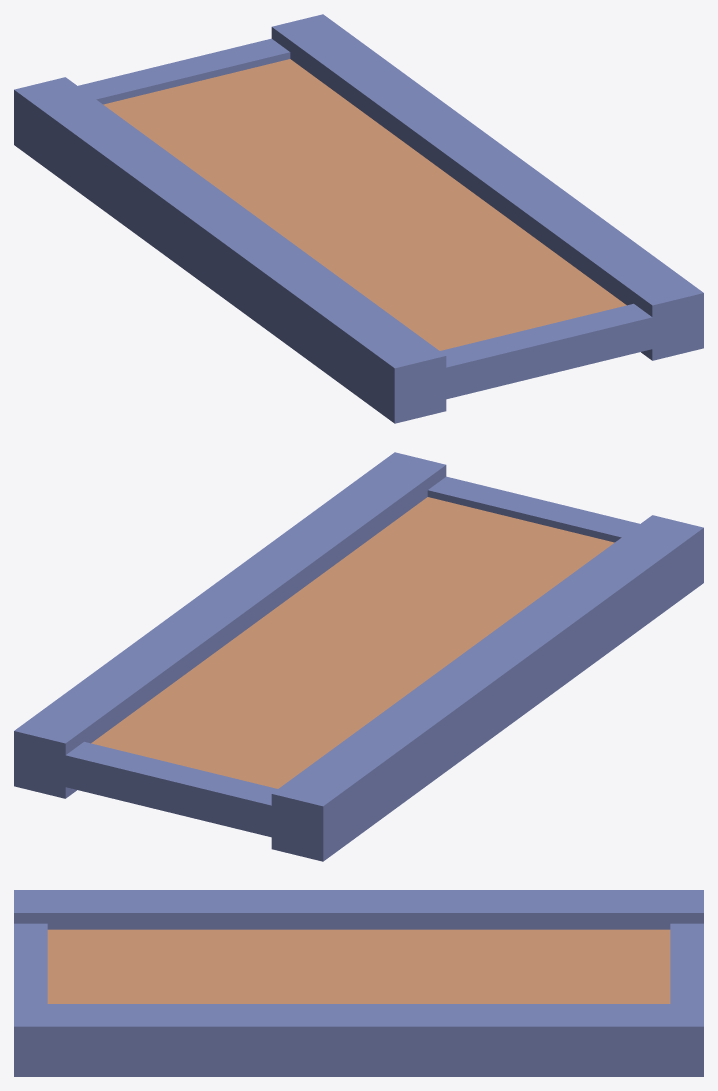
Rendered from bridge_2d_2.fbx.
3 views of the same model, one above another, from view 1: azimuth 30°, elevation 25°; view 2: azimuth 150°, elevation 25°; view 3: azimuth 270°, elevation 25° (orthographic). The views are drawn at different scales.
Visible parts, largest first — view 1: bridge_2d_2; view 2: bridge_2d_2; view 3: bridge_2d_2.
Part boxes in pixels (bbox=[...]): bridge_2d_2: bbox=[14, 14, 703, 423]; bridge_2d_2: bbox=[14, 452, 703, 861]; bridge_2d_2: bbox=[14, 890, 703, 1076].
Bounding box in the file's own units: 9.6 × 1.64 × 20.48.
